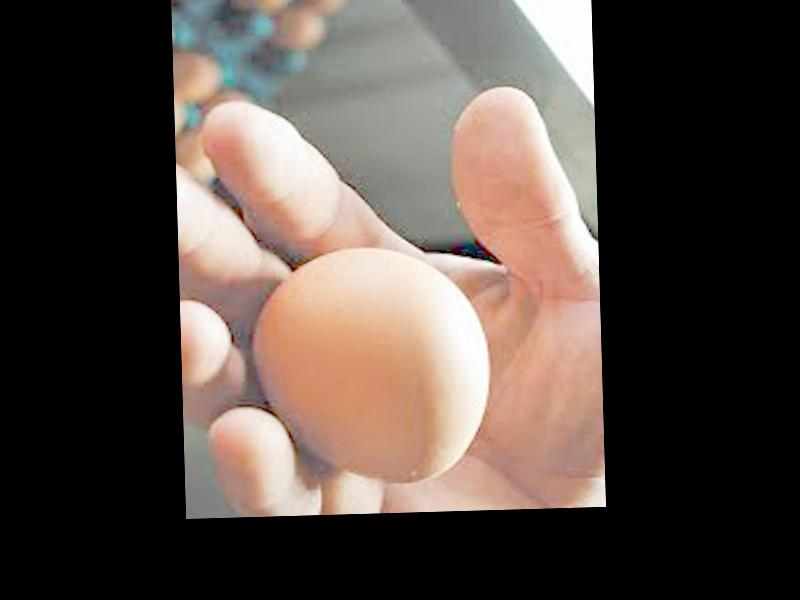Eggs: (246, 243, 491, 491)
